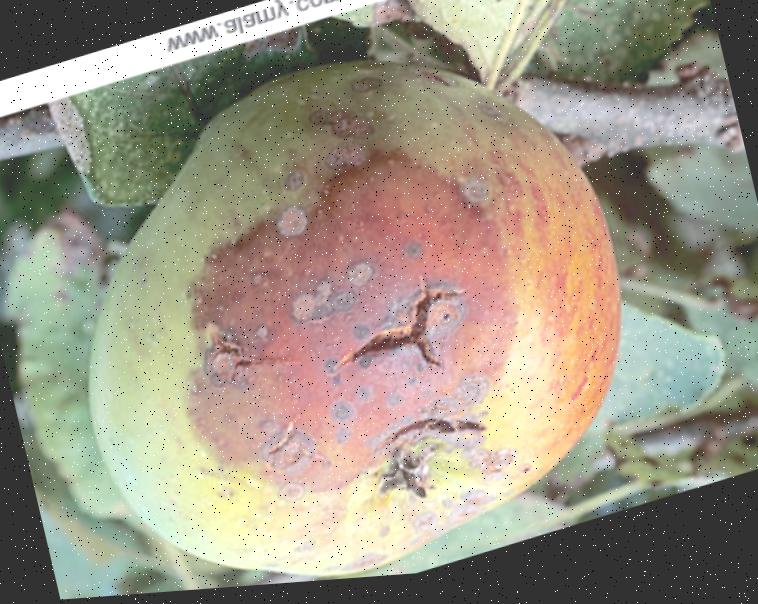ROT: (38, 0, 681, 601)
